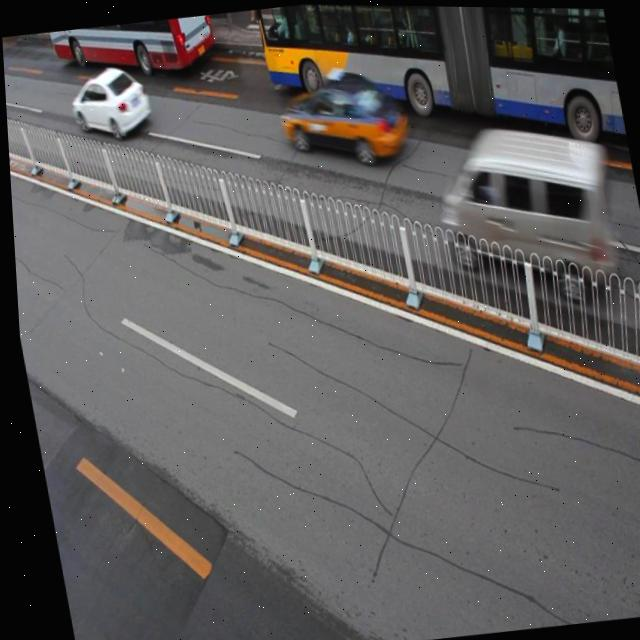car: (274, 69, 412, 171), (64, 60, 154, 142)
truck: (426, 113, 622, 315)
van: (255, 3, 626, 173), (47, 12, 217, 85)
